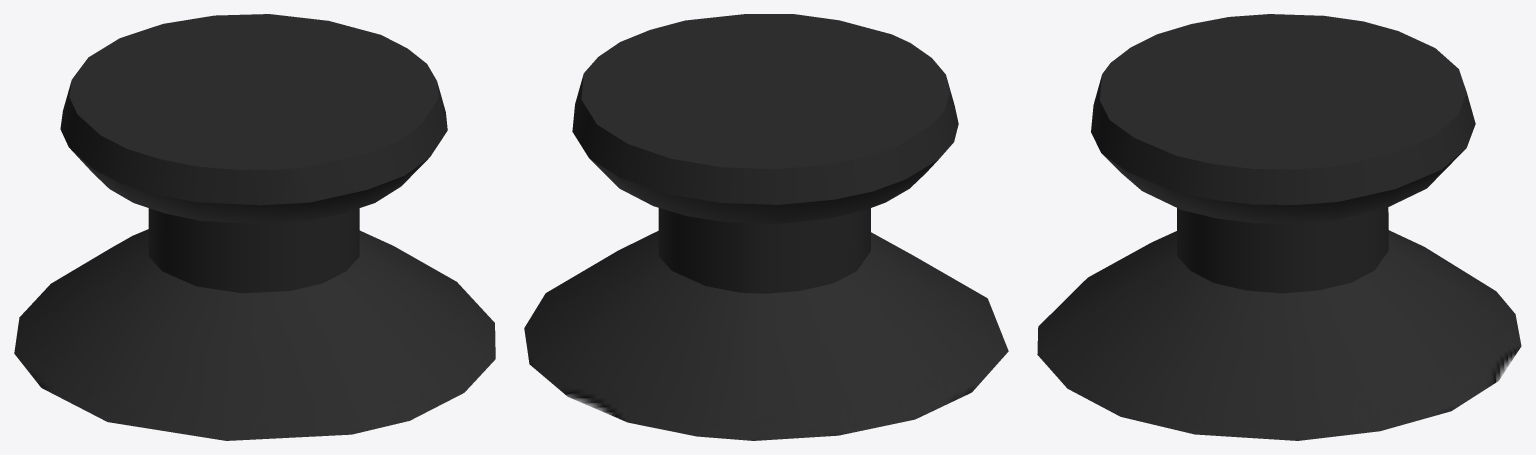
3 views of the same model, side by side, from view 1: azimuth 30°, elevation 25°; view 2: azimuth 150°, elevation 25°; view 3: azimuth 270°, elevation 25° (orthographic).
Size of the model in its own units: 0.0166 by 0.00935 by 0.0166.
1 material, 1 textured.
